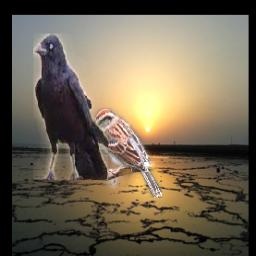Crow: (34, 34, 109, 180)
Sparrow: (91, 109, 163, 199)
